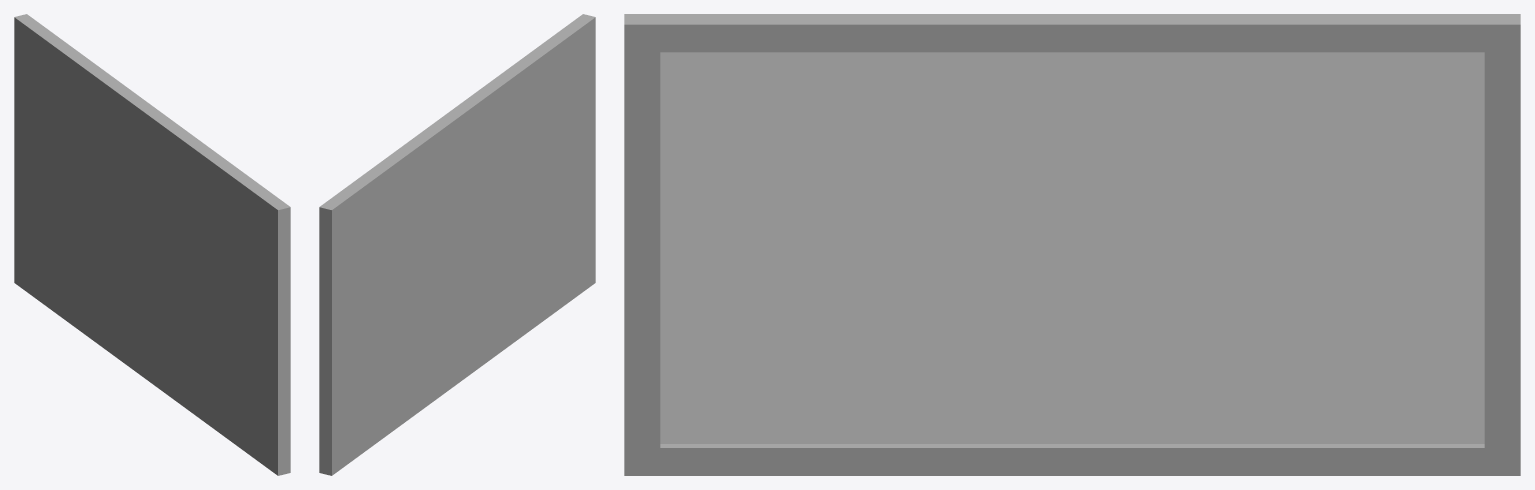
Rendered from BathroomMirror.glb.
3 views of the same model, side by side, from view 1: azimuth 30°, elevation 25°; view 2: azimuth 150°, elevation 25°; view 3: azimuth 270°, elevation 25° (orthographic). The views are drawn at different scales.
Visible parts, largest first — view 1: Cube; view 2: Cube; view 3: Cube.
Part boxes in pixels (x1,y1,x2,y2): Cube: (14,14,290,475); Cube: (319,14,595,475); Cube: (624,14,1520,475).
Size of the model in its own units: 0.05 by 1 by 1.8.
Materials: 2 (2 with a texture image).
